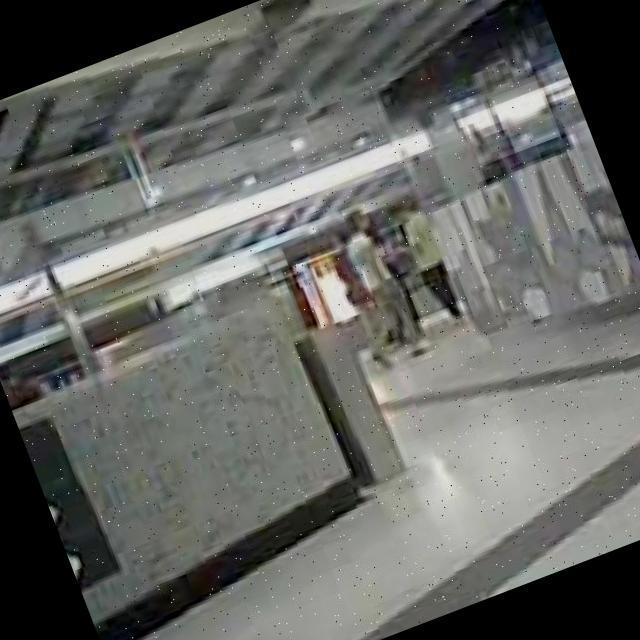person: (332, 204, 426, 362), (382, 192, 472, 334)
